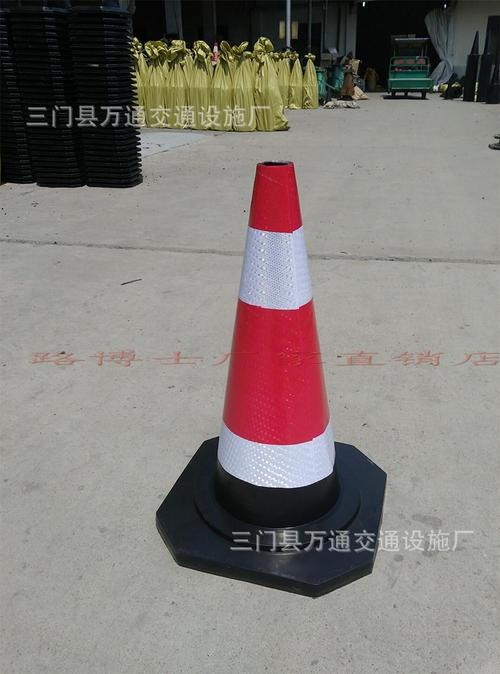cone_barrel: (187, 165, 358, 549)
